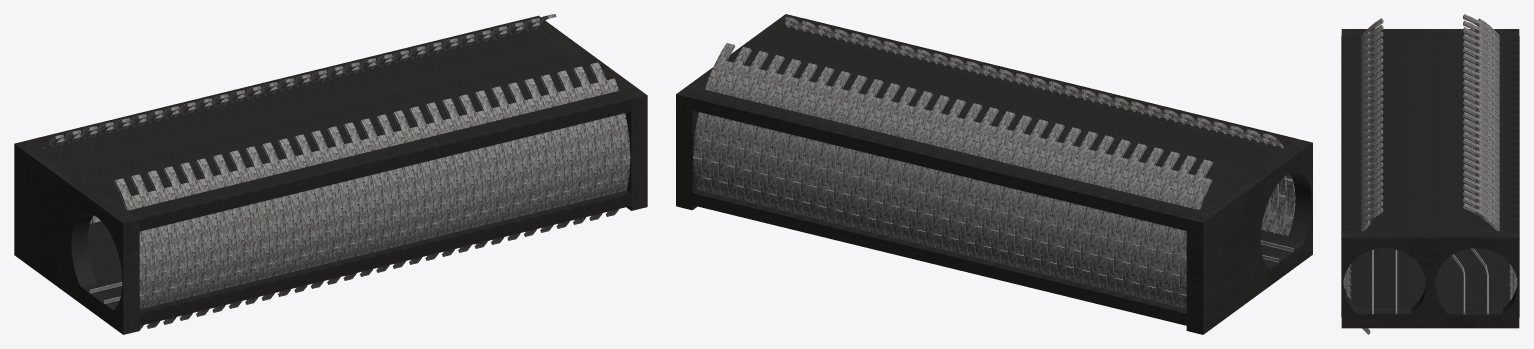
The model's file is tunnel junction left.fbx.
3 renders of one model, left to right at view 1: azimuth 30°, elevation 25°; view 2: azimuth 150°, elevation 25°; view 3: azimuth 270°, elevation 25°, orthographic. The views are drawn at different scales.
Visible parts, largest first — view 1: tunnel delimeter_low.007, tunnel delimeter_low.008, tunnel delimeter filler y_low.001, tunnel bottom_low.210, tunnel bottom_low.246, tunnel bottom_low.212, tunnel bottom_low.256, tunnel bottom_low.220, tunnel bottom_low.238, tunnel bottom_low.216, tunnel bottom_low.252, tunnel bottom_low.264 (+85 smaller); view 2: tunnel delimeter_low.007, tunnel delimeter filler y_low.001, tunnel delimeter_low.008, tunnel bottom_low.210, tunnel ring.250, tunnel ring.249, tunnel ring.251, tunnel ring.252, tunnel bottom_low.212, tunnel ring.296, tunnel ring.264, tunnel ring.260 (+82 smaller); view 3: tunnel delimeter_low.008, tunnel bottom_low.268, tunnel bottom_low.266, tunnel bottom_low.259, tunnel bottom_low.261, tunnel bottom_low.238, tunnel bottom_low.230, tunnel bottom_low.234, tunnel bottom_low.242, tunnel bottom_low.226, tunnel bottom_low.263, tunnel bottom_low.257 (+90 smaller).
Boxes of the visible parts, box(x1,y1,x2,y2) form: tunnel delimeter_low.007: box(14, 139, 139, 334); tunnel delimeter_low.008: box(522, 15, 647, 210); tunnel delimeter filler y_low.001: box(15, 172, 66, 268); tunnel bottom_low.210: box(31, 135, 156, 231); tunnel bottom_low.246: box(326, 63, 451, 159); tunnel bottom_low.212: box(47, 131, 172, 227); tunnel bottom_low.256: box(408, 43, 532, 139); tunnel bottom_low.220: box(113, 115, 237, 211); tunnel bottom_low.238: box(260, 79, 385, 175); tunnel bottom_low.216: box(80, 123, 205, 219); tunnel bottom_low.252: box(375, 51, 500, 147); tunnel bottom_low.264: box(473, 27, 598, 123); tunnel delimeter_low.007: box(1186, 138, 1312, 334); tunnel delimeter filler y_low.001: box(1204, 212, 1255, 309); tunnel delimeter_low.008: box(676, 14, 801, 210); tunnel bottom_low.210: box(1170, 134, 1296, 230); tunnel ring.250: box(1171, 137, 1285, 308); tunnel ring.249: box(1179, 133, 1295, 308); tunnel ring.251: box(1163, 129, 1277, 306); tunnel ring.252: box(1155, 133, 1268, 304); tunnel bottom_low.212: box(1153, 130, 1279, 226); tunnel ring.296: box(792, 45, 892, 215); tunnel ring.264: box(1056, 109, 1157, 279); tunnel ring.260: box(1089, 117, 1189, 287); tunnel delimeter_low.008: box(1341, 231, 1519, 328); tunnel bottom_low.268: box(1341, 224, 1519, 240); tunnel bottom_low.266: box(1341, 218, 1519, 224); tunnel bottom_low.259: box(1341, 275, 1519, 281); tunnel bottom_low.261: box(1341, 282, 1519, 288); tunnel bottom_low.238: box(1341, 126, 1519, 133); tunnel bottom_low.230: box(1341, 100, 1519, 107); tunnel bottom_low.234: box(1341, 113, 1519, 120); tunnel bottom_low.242: box(1341, 139, 1519, 146); tunnel bottom_low.226: box(1341, 87, 1519, 94); tunnel bottom_low.263: box(1341, 288, 1519, 294); tunnel bottom_low.257: box(1341, 269, 1519, 275).
Bounding box in the file's own units: 1155 × 3200 × 921.
